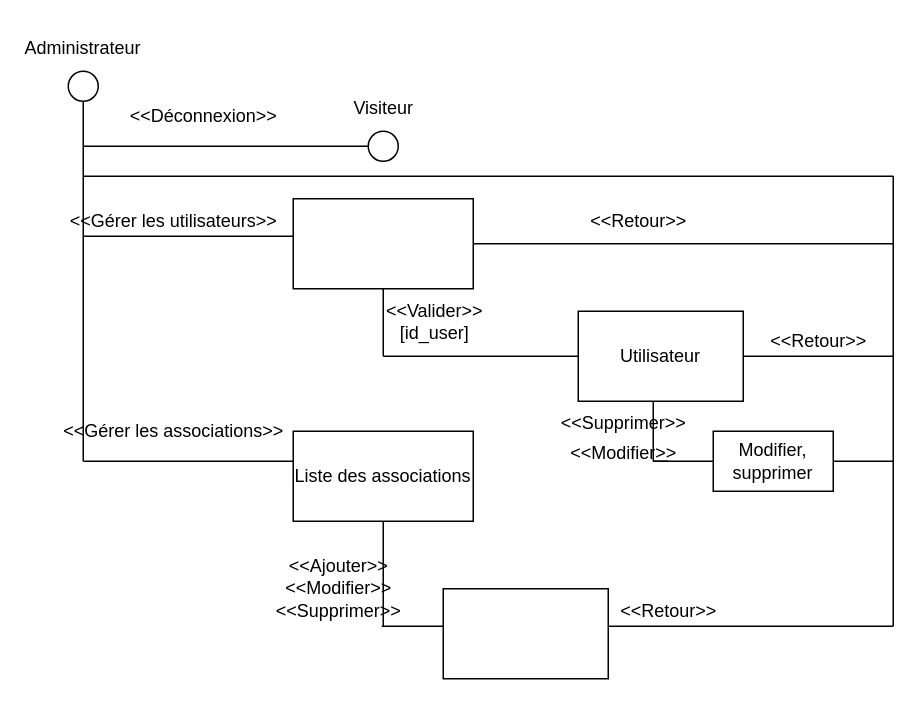
This 921x705 diagram has some shape labels left out. The box of each missing label's shape, as (x1, y1, x2, y2) in pixels:
Association: (442, 587, 608, 679)
Liste des utilisateurs: (292, 197, 473, 289)
